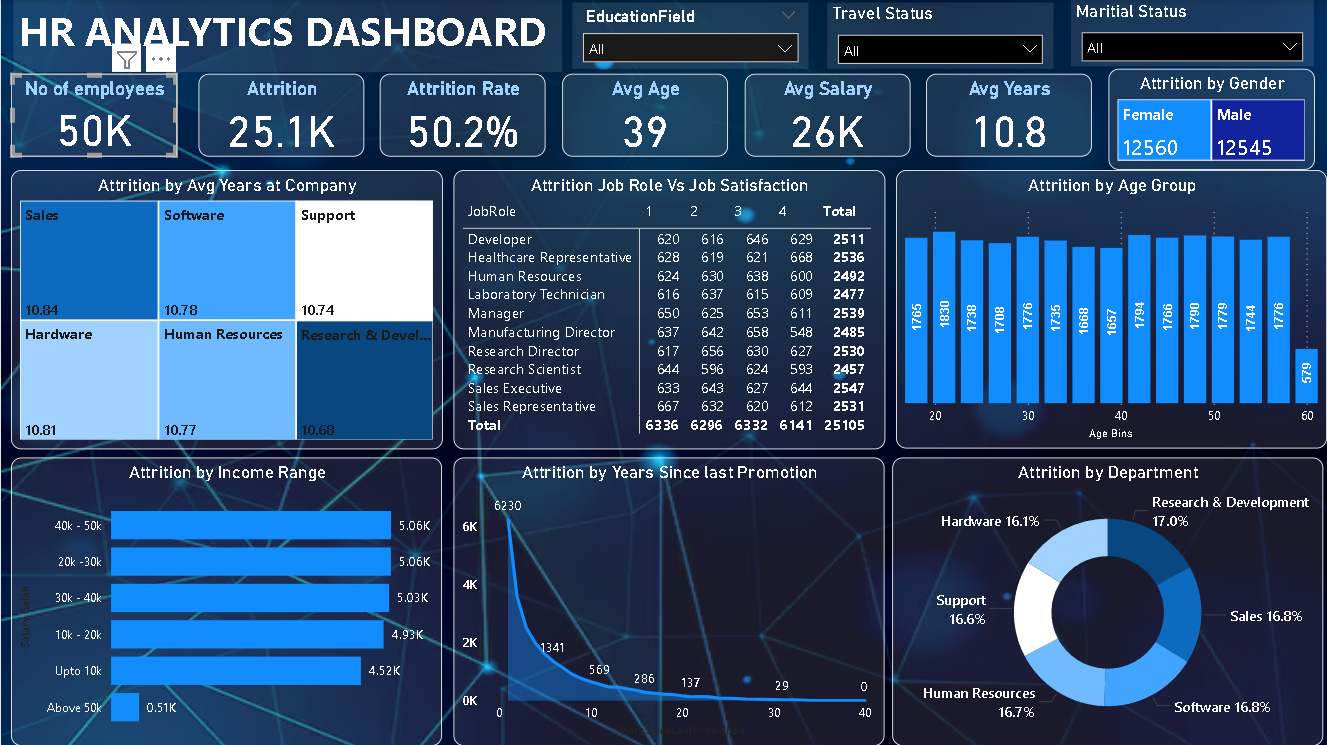

Layout of this report page (visuals, bound fields, positions):
{"tool":"powerbi","page":{"name":"Page 1","canvas":[1280,720],"ordinal":0},"visuals":[{"type":"card","title":"No of employees","fields":{"Values":["Sum(HR_1 & HR_2 Merge.EmployeeCount)"]},"box":[12.1,71.2,160.5,79.6],"z":0},{"type":"card","title":"Attrition","fields":{"Values":["Sum(HR_1 & HR_2 Merge.Attrition Count)"]},"box":[190.5,71.2,160,80],"z":1000},{"type":"card","title":"Attrition Rate","fields":{"Values":["HR_1 & HR_2 Merge.Attrition Rate"]},"box":[366.1,71.2,160,80],"z":2000},{"type":"card","title":"Avg Salary","fields":{"Values":["Avg(HR_1 & HR_2 Merge.MonthlyIncome)"]},"box":[717.4,71.2,160,80],"z":3000},{"type":"card","title":"Avg Age","fields":{"Values":["Avg(HR_1 & HR_2 Merge.Age)"]},"box":[541.8,71.2,160,80],"z":4000},{"type":"card","title":"Avg Years","fields":{"Values":["Avg(HR_1 & HR_2 Merge.YearsAtCompany)"]},"box":[893.1,71.2,160,80],"z":5000},{"type":"donutChart","title":"Attrition by Department","fields":{"Category":["HR_1 & HR_2 Merge.Department"],"Y":["Sum(HR_1 & HR_2 Merge.Attrition Count)"]},"box":[860.2,441.6,416.2,278.7],"z":6000},{"type":"clusteredBarChart","title":"Attrition by Income Range","fields":{"Category":["HR_1 & HR_2 Merge.Salary Salab"],"Y":["Sum(HR_1 & HR_2 Merge.Attrition Count)"]},"box":[9.7,441.6,416.2,278.7],"z":7000},{"type":"treemap","title":"Attrition by Avg Years at Company","fields":{"Group":["HR_1 & HR_2 Merge.Department"],"Values":["Avg(HR_1 & HR_2 Merge.YearsAtCompany)"]},"box":[9.3,164.6,416.6,269.6],"z":8000},{"type":"pivotTable","title":"Attrition Job Role Vs Job Satisfaction","fields":{"Values":["Sum(HR_1 & HR_2 Merge.Attrition Count)"],"Rows":["HR_1 & HR_2 Merge.JobRole"],"Columns":["HR_1 & HR_2 Merge.JobSatisfaction"]},"box":[436.5,164.6,416.6,269.6],"z":9000},{"type":"areaChart","title":"Attrition  by Years Since last Promotion","fields":{"Category":["HR_1 & HR_2 Merge.YearsSinceLastPromotion"],"Y":["Sum(HR_1 & HR_2 Merge.Attrition Count)"]},"box":[436.7,441.6,416.2,278.7],"z":10000},{"type":"treemap","title":"Attrition  by Gender","fields":{"Group":["HR_1 & HR_2 Merge.Gender"],"Values":["Sum(HR_1 & HR_2 Merge.Attrition Count)"]},"box":[1068.9,66.4,199.1,97.7],"z":11000},{"type":"textbox","box":[12.1,0,529.6,70],"z":12000},{"type":"clusteredColumnChart","title":"Attrition by Age Group","fields":{"Category":["HR_1 & HR_2 Merge.Age Bin"],"Y":["Sum(HR_1 & HR_2 Merge.Attrition Count)"]},"box":[863.8,164.1,416.2,269],"z":13000},{"type":"slicer","fields":{"Values":["HR_1 & HR_2 Merge.EducationField"]},"box":[551.3,2.4,228,63.9],"z":14000},{"type":"slicer","title":"Travel Status","fields":{"Values":["HR_1 & HR_2 Merge.BusinessTravel"]},"box":[797.5,2.4,218.4,63.9],"z":15000},{"type":"slicer","title":"Maritial Status","fields":{"Values":["HR_1 & HR_2 Merge.MaritalStatus"]},"box":[1032.7,0,234,63.9],"z":16000}]}

Visuals, with their boxes in screenshot pixels (x1, y1, x2, y2), scaled from the page's 1280x720 canvas onto the 1327x745 screenshot:
"No of employees" card: l=13, t=74, r=179, b=156
"Attrition" card: l=197, t=74, r=363, b=156
"Attrition Rate" card: l=380, t=74, r=545, b=156
"Avg Salary" card: l=744, t=74, r=910, b=156
"Avg Age" card: l=562, t=74, r=728, b=156
"Avg Years" card: l=926, t=74, r=1092, b=156
"Attrition by Department" donutChart: l=892, t=457, r=1323, b=744
"Attrition by Income Range" clusteredBarChart: l=10, t=457, r=442, b=744
"Attrition by Avg Years at Company" treemap: l=10, t=170, r=442, b=449
"Attrition Job Role Vs Job Satisfaction" pivotTable: l=453, t=170, r=884, b=449
"Attrition  by Years Since last Promotion" areaChart: l=453, t=457, r=884, b=744
"Attrition  by Gender" treemap: l=1108, t=69, r=1315, b=170
textbox: l=13, t=0, r=562, b=72
"Attrition by Age Group" clusteredColumnChart: l=896, t=170, r=1326, b=448
slicer - HR_1 & HR_2 Merge.EducationField: l=572, t=2, r=808, b=69
"Travel Status" slicer: l=827, t=2, r=1053, b=69
"Maritial Status" slicer: l=1071, t=0, r=1313, b=66
